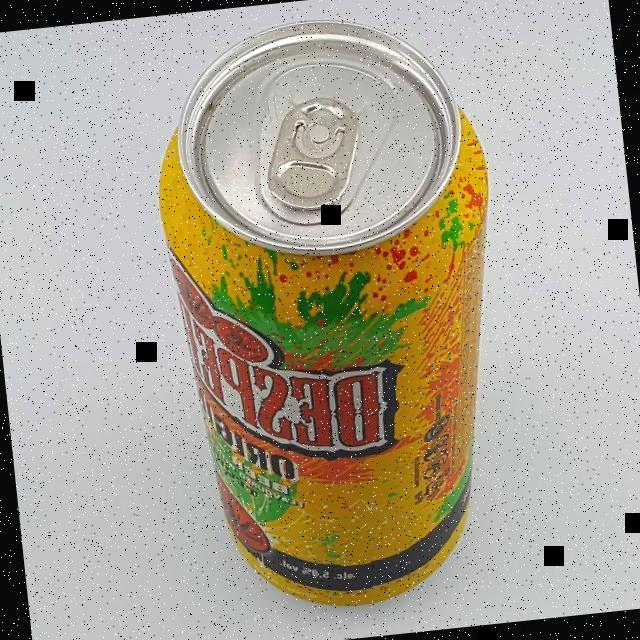can: (141, 4, 530, 622)
